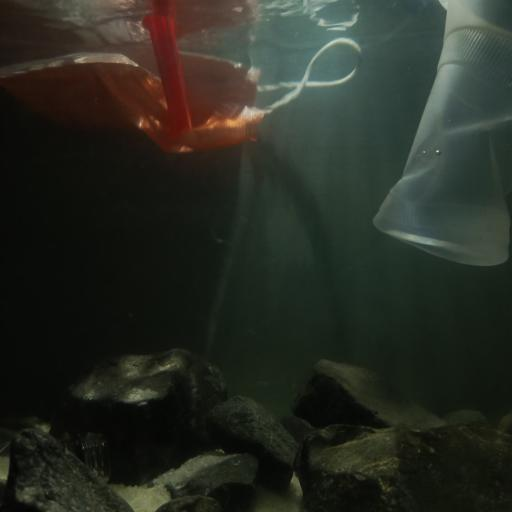mask: (0, 42, 363, 151)
plastic_cup: (374, 18, 512, 269)
plastic_straw: (141, 11, 187, 124)
